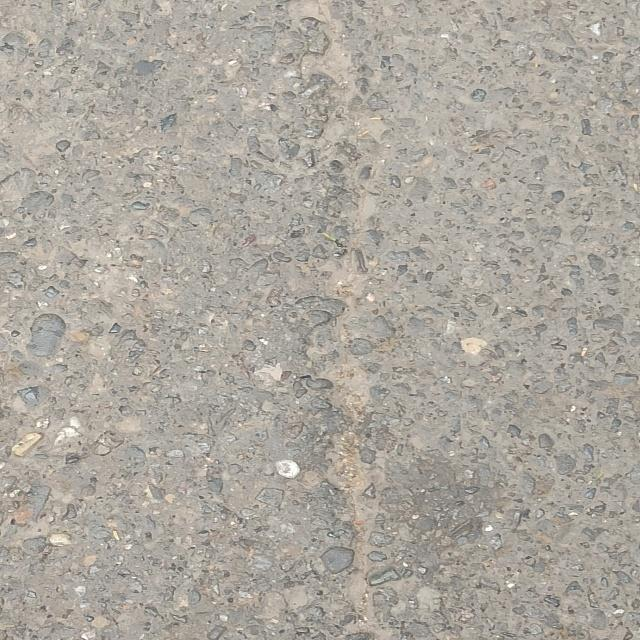Surface Erosion: (190, 12, 446, 607)
